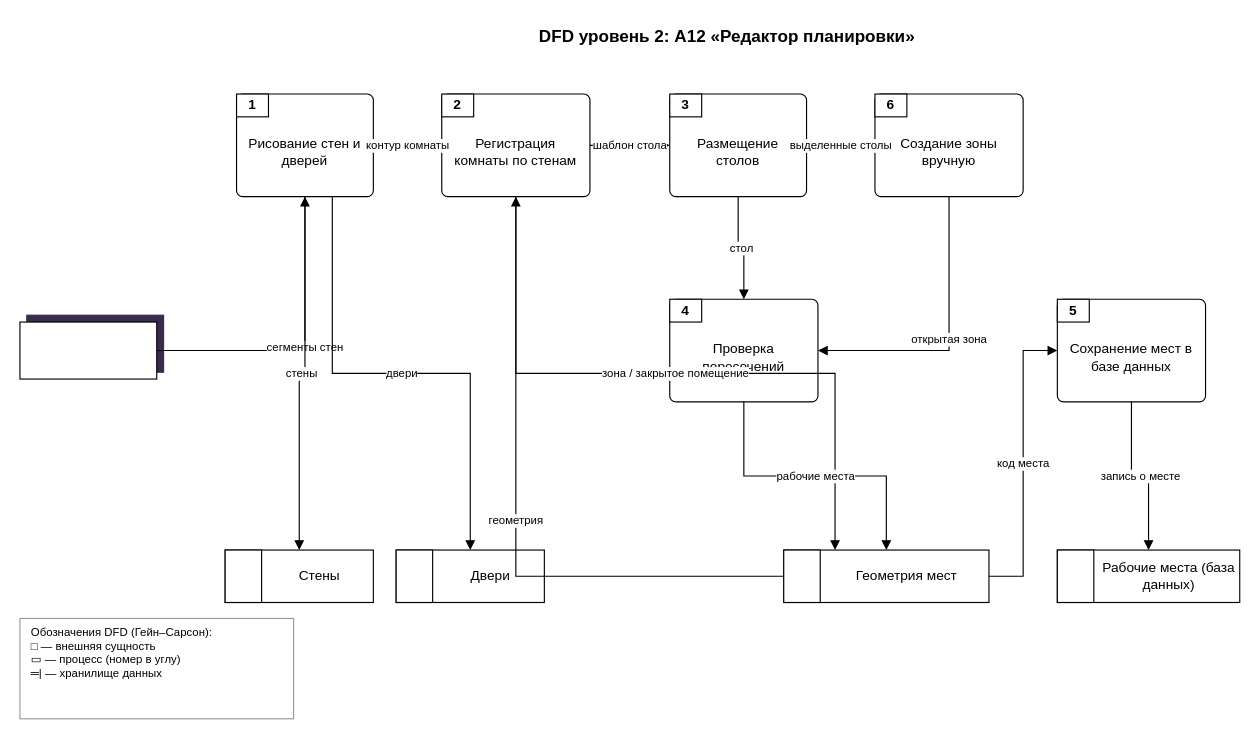
This 1260x739 diagram has some shape labels left out. Each missing label, with the centre of its shape:
D1: the point at 243,575
D2: the point at 414,575
D3: the point at 801,575
D4: the point at 1075,575
Администратор: the point at 88,350
